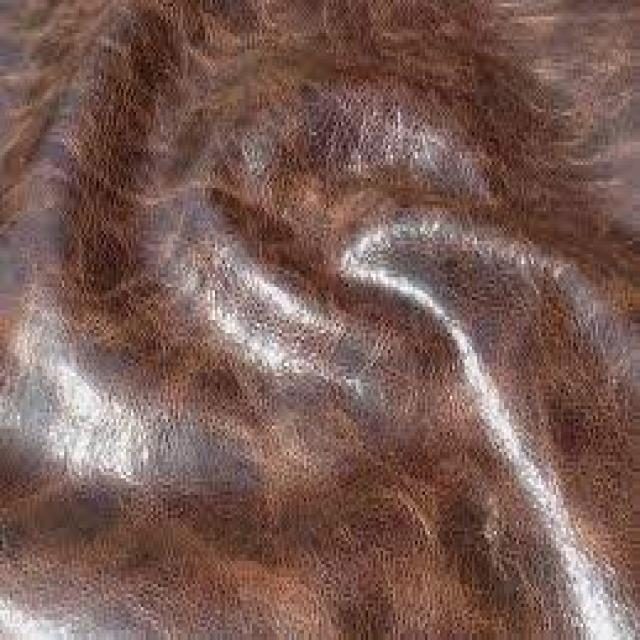Crease: (209, 70, 523, 427), (360, 182, 598, 508), (40, 335, 394, 517)
